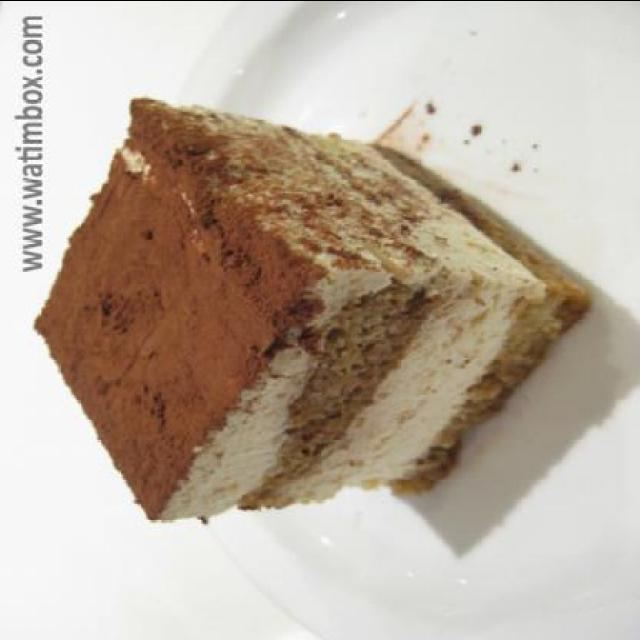Tiramisu: (29, 107, 585, 516)
